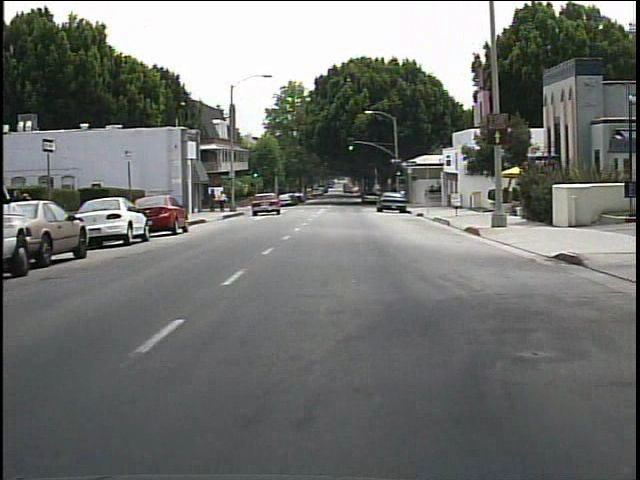person: (207, 190, 219, 215), (218, 190, 229, 213)
